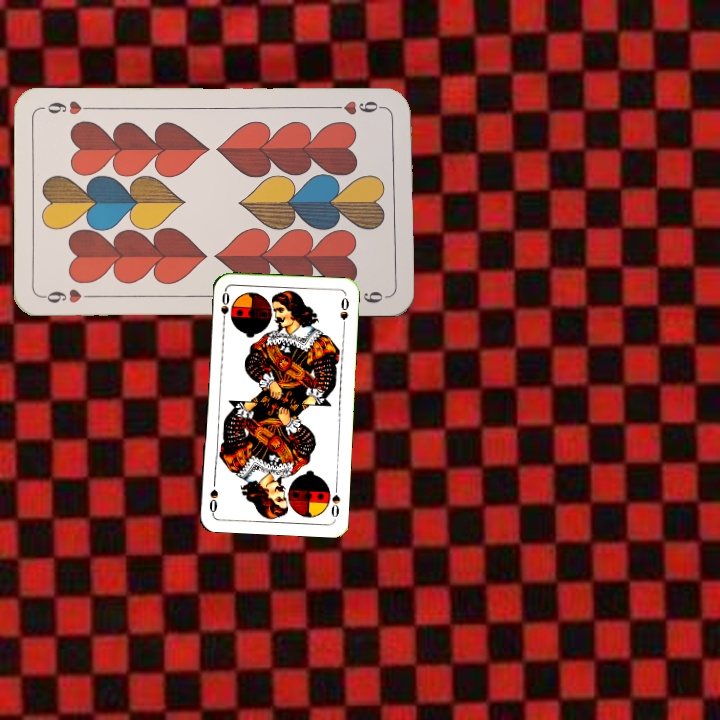H9: (38, 284, 97, 305), (329, 97, 388, 118)
SO: (216, 287, 232, 327), (327, 481, 342, 521)
